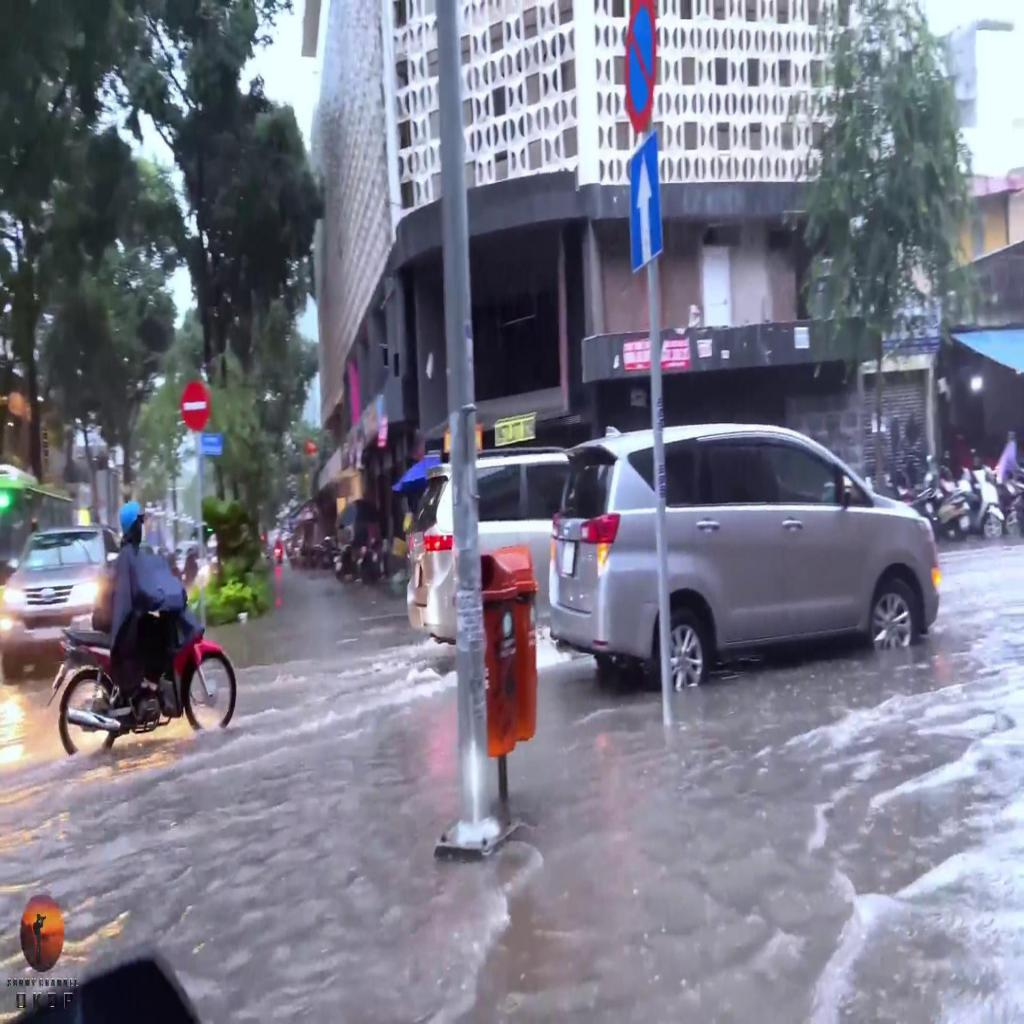cam_do_xe: (624, 0, 658, 129)
cam_xe_di_nguoc_chieu: (181, 380, 212, 432)
duong_mot_chieu: (629, 131, 662, 273)
